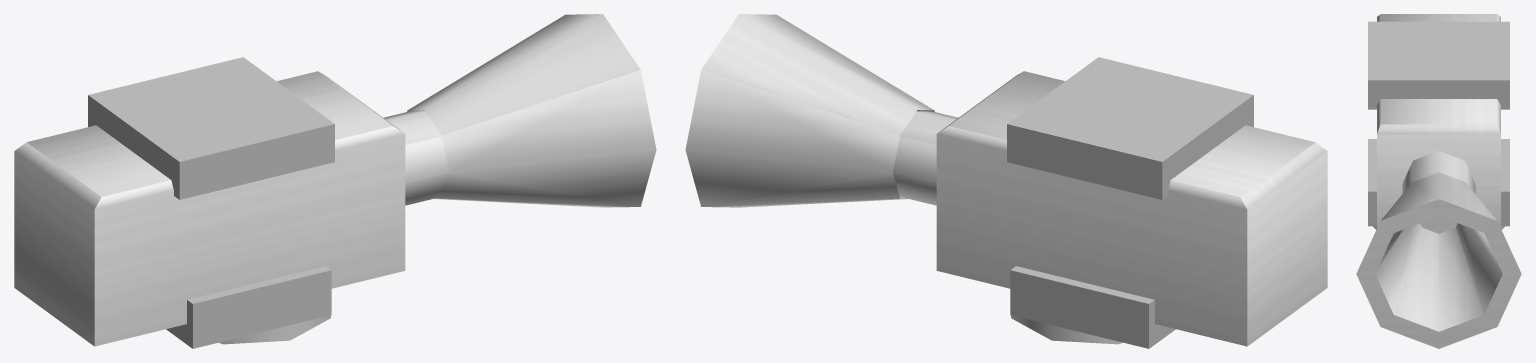
File: foam_top.obj
The picture shows the model from 3 angles, left to right: view 1: azimuth 30°, elevation 25°; view 2: azimuth 150°, elevation 25°; view 3: azimuth 270°, elevation 25°; orthographic projection. The views are drawn at different scales.
Parts seen in each view (by area): view 1: rigid_shell_001, rigid_shell_005, rigid_shell_002, rigid_shell_003, rigid_shell_004, rigid_shell_000; view 2: rigid_shell_001, rigid_shell_005, rigid_shell_002, rigid_shell_003, rigid_shell_004, rigid_shell_000; view 3: rigid_shell_005, rigid_shell_002, rigid_shell_001, rigid_shell_003, rigid_shell_004, rigid_shell_006.
Boxes of the visible parts, box(x1,y1,x2,y2) form: rigid_shell_001: box(14, 71, 405, 346); rigid_shell_005: box(407, 14, 656, 207); rigid_shell_002: box(88, 57, 334, 199); rigid_shell_003: box(166, 266, 331, 348); rigid_shell_004: box(383, 111, 448, 205); rigid_shell_000: box(219, 315, 330, 344); rigid_shell_001: box(936, 71, 1327, 346); rigid_shell_005: box(685, 14, 934, 207); rigid_shell_002: box(1007, 57, 1253, 199); rigid_shell_003: box(1010, 266, 1175, 348); rigid_shell_004: box(893, 111, 958, 205); rigid_shell_000: box(1011, 315, 1122, 344); rigid_shell_005: box(1356, 172, 1521, 348); rigid_shell_002: box(1368, 21, 1509, 109); rigid_shell_001: box(1377, 14, 1500, 227); rigid_shell_003: box(1368, 139, 1509, 226); rigid_shell_004: box(1402, 151, 1475, 193); rigid_shell_006: box(1420, 216, 1457, 233).
Size of the model in its own units: 0.83 by 0.3 by 0.28.
